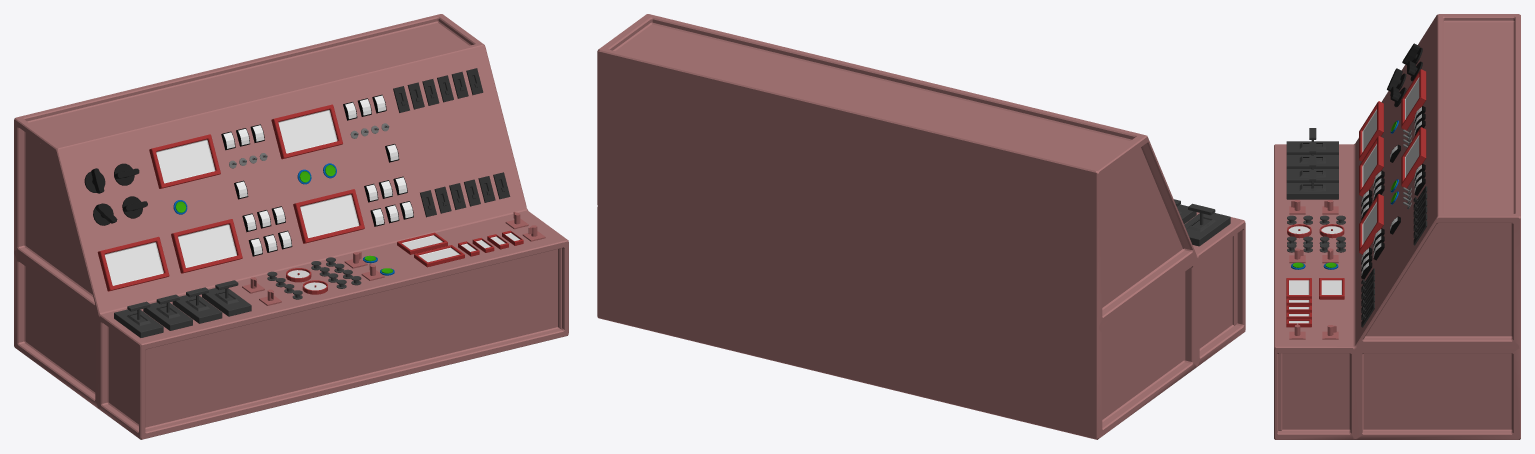
The model's file is console_06.fbx.
The picture shows the model from 3 angles, left to right: view 1: azimuth 30°, elevation 25°; view 2: azimuth 150°, elevation 25°; view 3: azimuth 270°, elevation 25°; orthographic projection. The views are drawn at different scales.
Visible parts, largest first — view 1: pCube1, display_01:pCube1, pCube9, pCube29, pCube8, pCube30, lever_01:pCube1, pCube11, pCube12, pCube10, pCube42, pCube41; view 2: pCube1, lever_01:pCube1; view 3: pCube1, pCube12, pCube30, pCube9, pCube8, pCube29, display_01:pCube1, pCube11, pCube10, lever_01:pCube1, pCube42, pCube41 (+4 smaller).
Part boxes in pixels (x1,y1,x2,y2): pCube1: (14,14,568,439); display_01:pCube1: (97,236,169,291); pCube9: (149,134,220,188); pCube29: (293,189,364,243); pCube8: (171,219,242,273); pCube30: (271,104,342,159); lever_01:pCube1: (114,301,163,337); pCube11: (172,287,222,323); pCube12: (202,280,251,316); pCube10: (143,294,192,330); pCube42: (397,232,447,254); pCube41: (414,245,464,267); pCube1: (597,14,1245,439); lever_01:pCube1: (1184,203,1230,246); pCube1: (1274,14,1520,439); pCube12: (1286,169,1338,199); pCube30: (1401,127,1426,188); pCube9: (1401,69,1426,130); pCube8: (1359,136,1383,196); pCube29: (1359,194,1383,254); display_01:pCube1: (1359,101,1383,161); pCube11: (1286,155,1338,182); pCube10: (1286,142,1338,168); lever_01:pCube1: (1286,128,1338,154); pCube42: (1319,278,1344,299); pCube41: (1286,278,1311,298).
Size of the model in its own units: 293 by 150 by 150.
